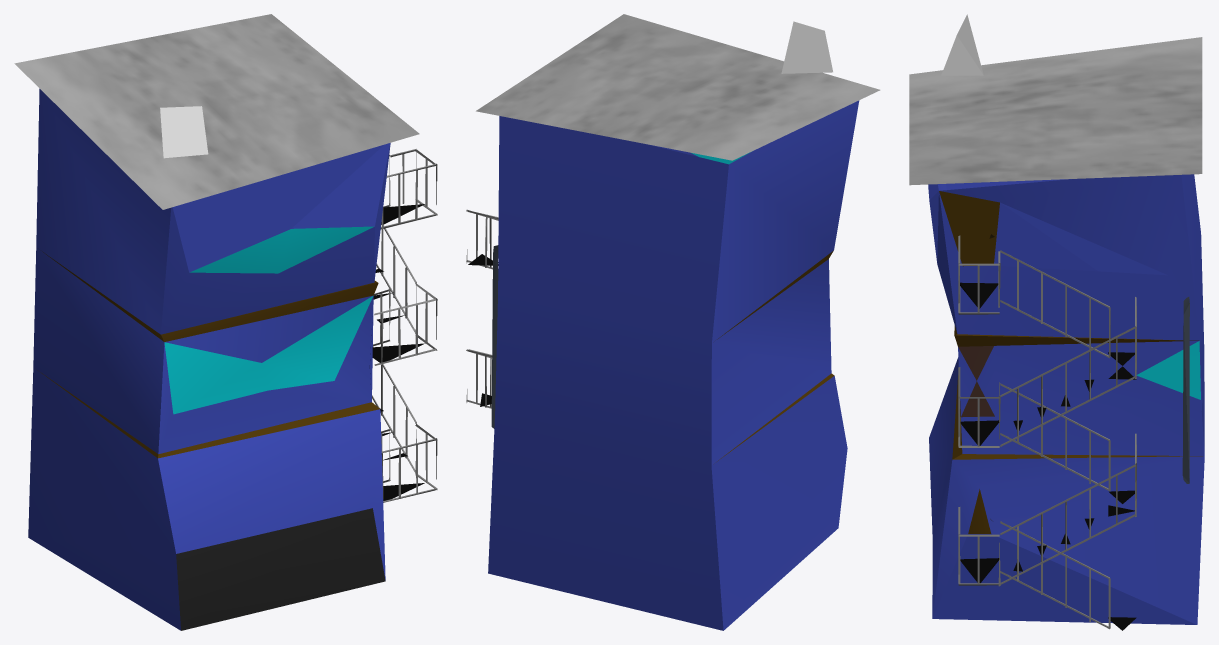
Rendered from PredioTorto-AzulLOD2.fbx.
3 renders of one model, left to right at view 1: azimuth 30°, elevation 25°; view 2: azimuth 150°, elevation 25°; view 3: azimuth 270°, elevation 25°, orthographic.
Visible parts, largest first — view 1: Predio3AndaresLOD2; view 2: Predio3AndaresLOD2; view 3: Predio3AndaresLOD2.
Part boxes in pixels (x1,y1,x2,y2): Predio3AndaresLOD2: (14, 14, 437, 630); Predio3AndaresLOD2: (466, 14, 880, 630); Predio3AndaresLOD2: (909, 14, 1204, 630).
Size of the model in its own units: 1025 by 1669 by 885.
